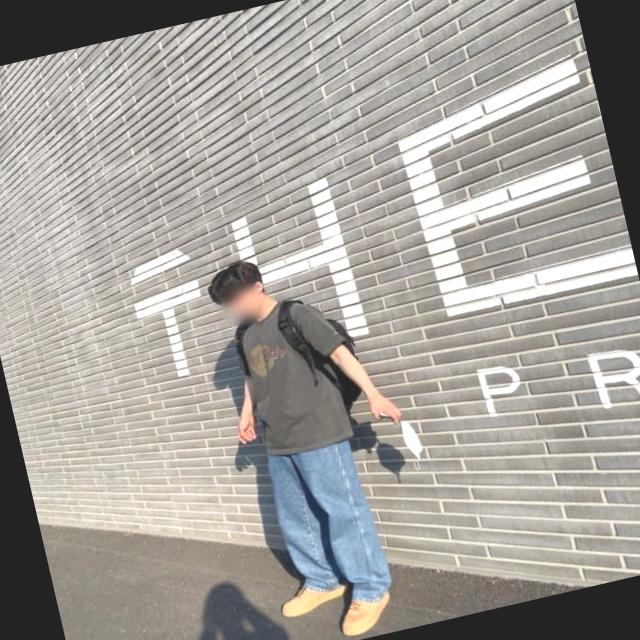denimpants: (266, 424, 400, 617)
shortsleeve: (201, 288, 378, 468)
